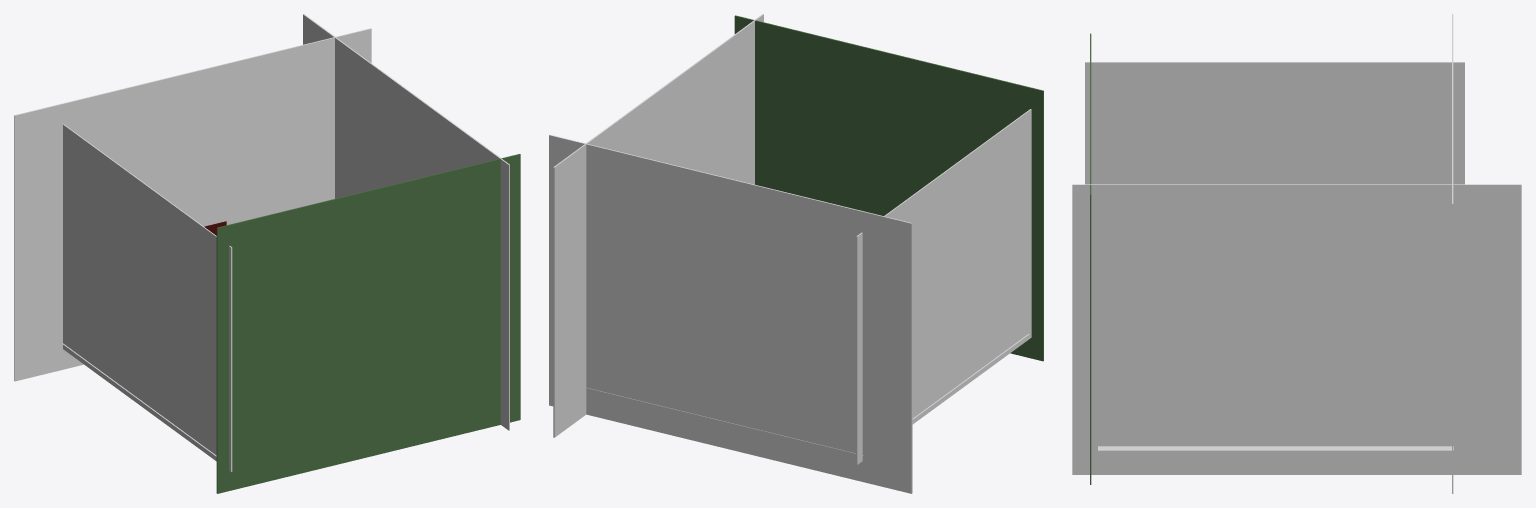
Rendered from environment.fbx.
The picture shows the model from 3 angles, left to right: view 1: azimuth 30°, elevation 25°; view 2: azimuth 150°, elevation 25°; view 3: azimuth 270°, elevation 25°; orthographic projection. The views are drawn at different scales.
Parts seen in each view (by area): view 1: Plane.006, Plane.011, Plane.007, Plane.012; view 2: Plane.011, Plane.006, Plane.007, Plane.012; view 3: Plane.012, Plane.007, Plane, Plane.011, Plane.006.
Boxes of the visible parts, box(x1,y1,x2,y2) form: Plane.006: box(216, 154, 520, 493); Plane.011: box(14, 28, 371, 381); Plane.007: box(63, 124, 232, 471); Plane.012: box(303, 14, 509, 430); Plane.011: box(549, 135, 912, 493); Plane.006: box(734, 15, 1043, 361); Plane.007: box(856, 109, 1031, 464); Plane.012: box(553, 14, 763, 437); Plane.012: box(1072, 184, 1521, 474); Plane.007: box(1085, 62, 1464, 184); Plane: box(1098, 446, 1453, 450); Plane.011: box(1452, 14, 1453, 493); Plane.006: box(1090, 33, 1091, 484).
Size of the model in its own units: 5741 by 4087 by 5741.
